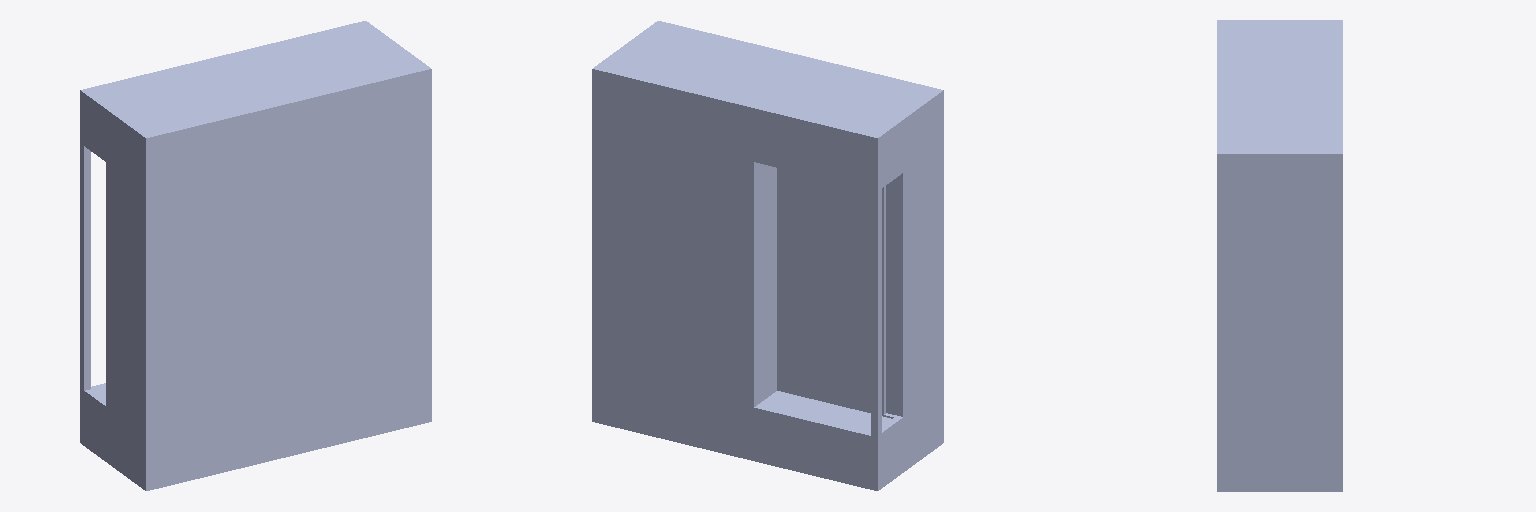
URDF robot description (工作臺1.SLDPRT):
<?xml version="1.0" encoding="utf-8"?>
<!-- This URDF was automatically created by SolidWorks to URDF Exporter! Originally created by [author] ([email redacted]) 
     Commit Version: 1.5.1-0-g916b5db  Build Version: 1.5.7152.31018
     For more information, please see http://wiki.ros.org/sw_urdf_exporter -->
<robot
  name="工作臺1.SLDPRT">
  <link
    name="work_area.SLDPRT">
    <inertial>
      <origin
        xyz="-0.028538 -0.010759 0.093417"
        rpy="0 0 0" />
      <mass
        value="0.052805" />
      <inertia
        ixx="1.794E-05"
        ixy="-6.319E-07"
        ixz="-2.66900000000004E-09"
        iyy="2.6931E-05"
        iyz="-6.26960000000896E-10"
        izz="1.2301E-05" />
    </inertial>
    <visual>
      <origin
        xyz="0 0 0"
        rpy="1.5707963267949 0 0" />
      <geometry>
        <mesh
          filename="package://work_area.SLDPRT/meshes/work_area.SLDPRT.STL" />
      </geometry>
      <material
        name="">
        <color
          rgba="0.79216 0.81961 0.93333 1" />
        <texture
          filename="package://work_area.SLDPRT/textures/" />
      </material>
    </visual>
    <collision>
      <origin
        xyz="0 0 0"
        rpy="1.5707963267949 0 0" />
      <geometry>
        <mesh
          filename="package://work_area.SLDPRT/meshes/work_area.SLDPRT.STL" />
      </geometry>
    </collision>
  </link>
</robot>

--- Facts derived from the render (not from the file) ---
3 views of the same robot in one strip: view 1: azimuth 30°, elevation 25°; view 2: azimuth 150°, elevation 25°; view 3: azimuth 270°, elevation 25° (orthographic).
Model 工作臺1.SLDPRT with 1 links and 0 joints (none), rooted at work_area.SLDPRT, posed every joint at zero.
Visible links, largest first — view 1: work_area.SLDPRT; view 2: work_area.SLDPRT; view 3: work_area.SLDPRT.
Boxes of the visible links, left/top/right/bottom form: work_area.SLDPRT: left=80, top=21, right=431, bottom=490; work_area.SLDPRT: left=592, top=21, right=943, bottom=490; work_area.SLDPRT: left=1217, top=20, right=1342, bottom=491.
Bounding box of the posed robot: 0.05 × 0.02 × 0.0591 m (x, y, z).
Meshes: 1 distinct files referenced, 1 mesh visuals loaded (1 binary STL).